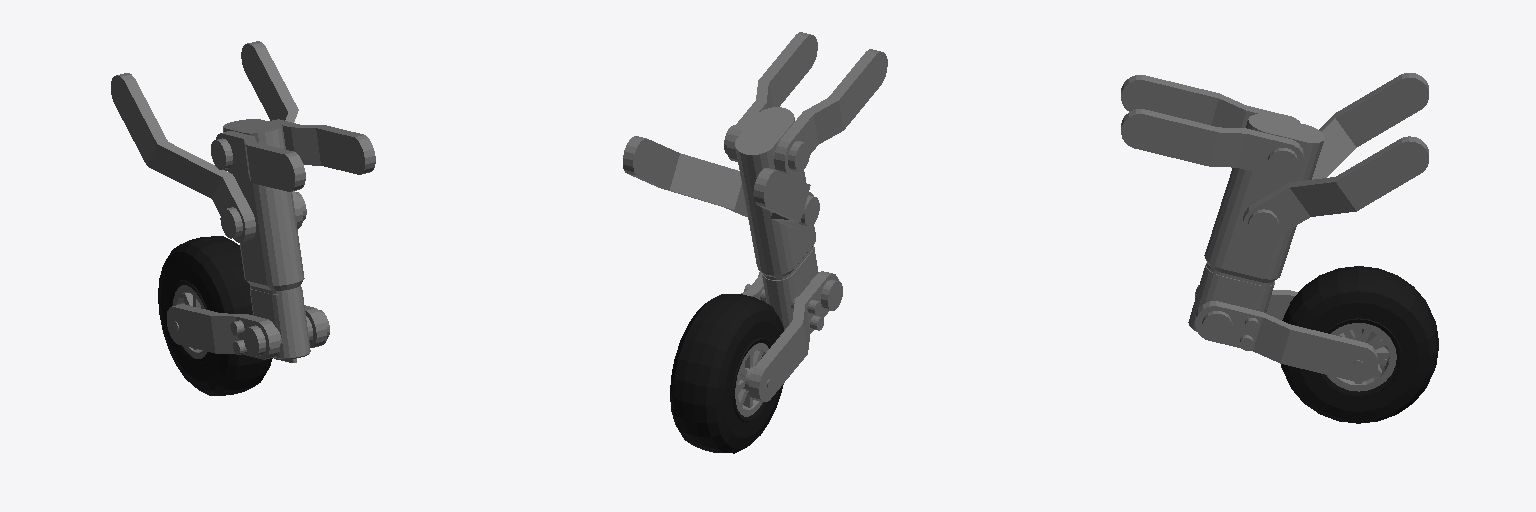
Rendered from gearfront.obj.
3 renders of one model, left to right at view 1: azimuth 30°, elevation 25°; view 2: azimuth 150°, elevation 25°; view 3: azimuth 270°, elevation 25°, orthographic.
Visible parts, largest first — view 1: Bell222_GEAR_FRONT; view 2: Bell222_GEAR_FRONT; view 3: Bell222_GEAR_FRONT.
Boxes of the visible parts, <box> form: Bell222_GEAR_FRONT: <box>111,41,375,395</box>; Bell222_GEAR_FRONT: <box>623,32,887,453</box>; Bell222_GEAR_FRONT: <box>1121,73,1438,423</box>.
Size of the model in its own units: 0.7564 by 1.65 by 1.47.